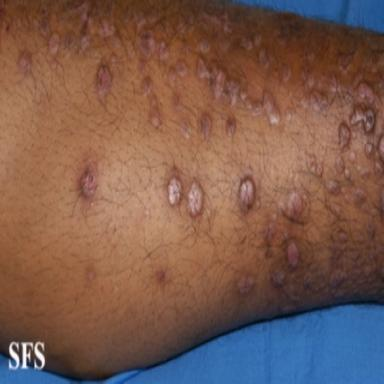Epidermolysis-Bullosa-Pruriginosa: (196, 57, 280, 124), (267, 13, 317, 43), (79, 161, 98, 202), (351, 108, 375, 133), (187, 182, 203, 217), (239, 177, 255, 211), (337, 44, 357, 70), (287, 191, 303, 221), (138, 31, 155, 58), (97, 65, 111, 97), (306, 154, 323, 177), (168, 177, 181, 206), (311, 90, 328, 112), (358, 82, 374, 104), (330, 268, 347, 287), (287, 242, 299, 267), (98, 20, 115, 37), (301, 68, 314, 90), (61, 33, 76, 52), (156, 41, 169, 62), (238, 276, 253, 294), (339, 124, 350, 148), (201, 114, 211, 138), (271, 270, 285, 287), (180, 120, 191, 140), (259, 49, 270, 69), (330, 73, 341, 93), (49, 33, 59, 54), (19, 53, 30, 72), (175, 60, 187, 77), (327, 181, 341, 195), (265, 223, 275, 242), (142, 77, 151, 97), (335, 155, 344, 174), (355, 189, 365, 206), (80, 35, 90, 52), (343, 85, 353, 102), (240, 37, 253, 50), (378, 134, 384, 162), (282, 66, 291, 84), (198, 40, 210, 53), (227, 118, 235, 137), (40, 20, 49, 36), (151, 114, 161, 128), (168, 68, 175, 86), (365, 142, 373, 157), (253, 33, 261, 47), (173, 94, 180, 109), (287, 108, 293, 122), (151, 96, 157, 108), (349, 150, 355, 162), (110, 54, 116, 66), (344, 169, 350, 179), (341, 186, 346, 194), (352, 130, 357, 138), (272, 213, 277, 221), (344, 194, 349, 201)
